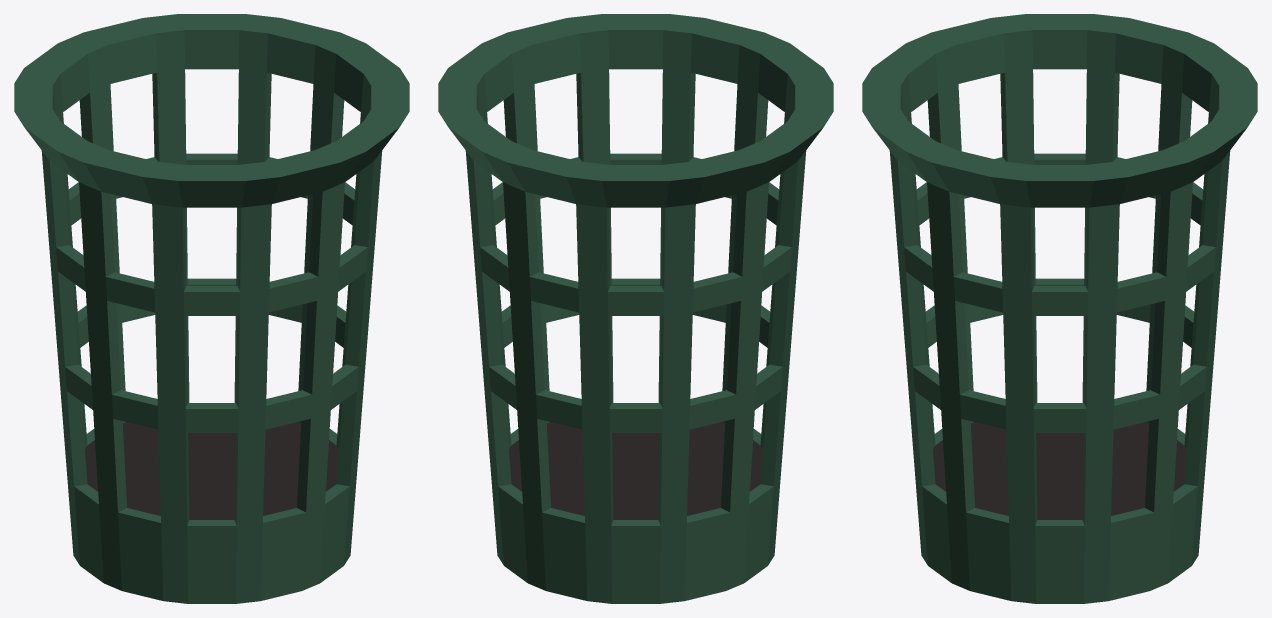
Rendered from wire-trash-basket-269c1c.glb.
3 renders of one model, left to right at view 1: azimuth 30°, elevation 25°; view 2: azimuth 150°, elevation 25°; view 3: azimuth 270°, elevation 25°, orthographic.
Parts seen in each view (by area): view 1: basket-shell; view 2: basket-shell; view 3: basket-shell.
Boxes of the visible parts, box(x1,y1,x2,y2) form: basket-shell: box(14, 14, 409, 603); basket-shell: box(438, 14, 833, 603); basket-shell: box(862, 14, 1257, 603).
Bounding box in the file's own units: 0.7195 × 0.9 × 0.7195.
